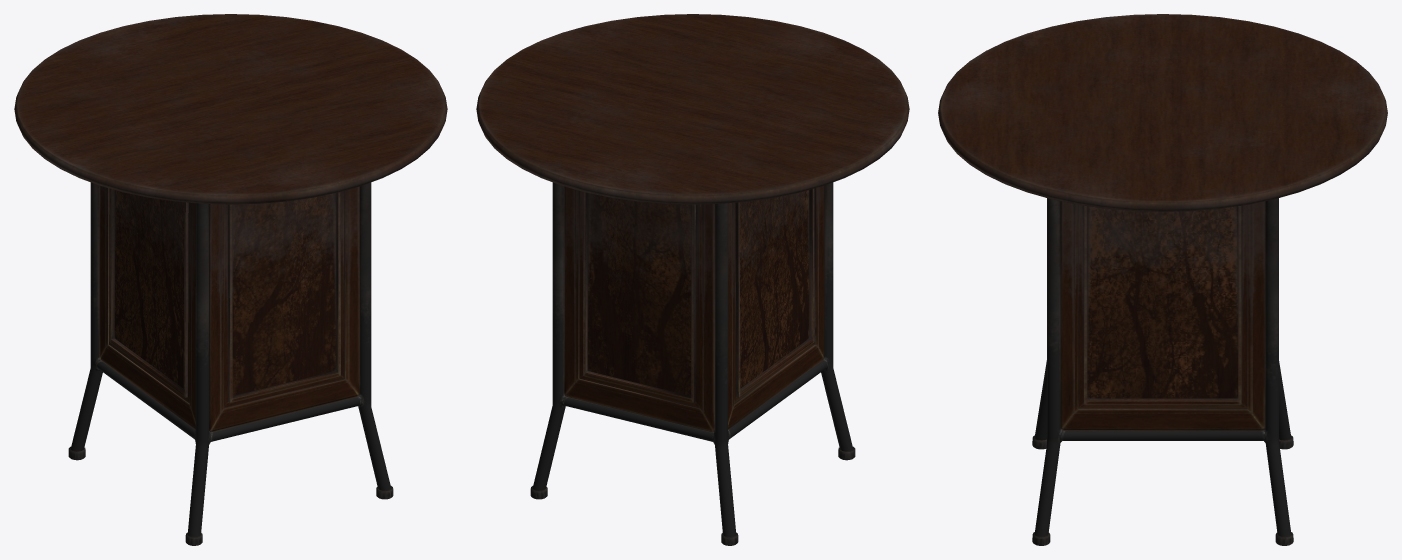
The picture shows the model from 3 angles, left to right: view 1: azimuth 30°, elevation 25°; view 2: azimuth 150°, elevation 25°; view 3: azimuth 270°, elevation 25°; orthographic projection. The views are drawn at different scales.
Visible parts, largest first — view 1: sourced-side-table-body, side-table-top; view 2: sourced-side-table-body, side-table-top; view 3: sourced-side-table-body, side-table-top.
Part boxes in pixels (left/top/right/bottom): sourced-side-table-body: left=14, top=14, right=447, bottom=545; side-table-top: left=79, top=45, right=382, bottom=163; sourced-side-table-body: left=476, top=14, right=909, bottom=545; side-table-top: left=541, top=45, right=844, bottom=163; sourced-side-table-body: left=938, top=14, right=1387, bottom=545; side-table-top: left=1069, top=53, right=1256, bottom=161.
Bounding box in the file's own units: 0.5272 × 0.5 × 0.5272.
Materials: 1 (1 with a texture image).
